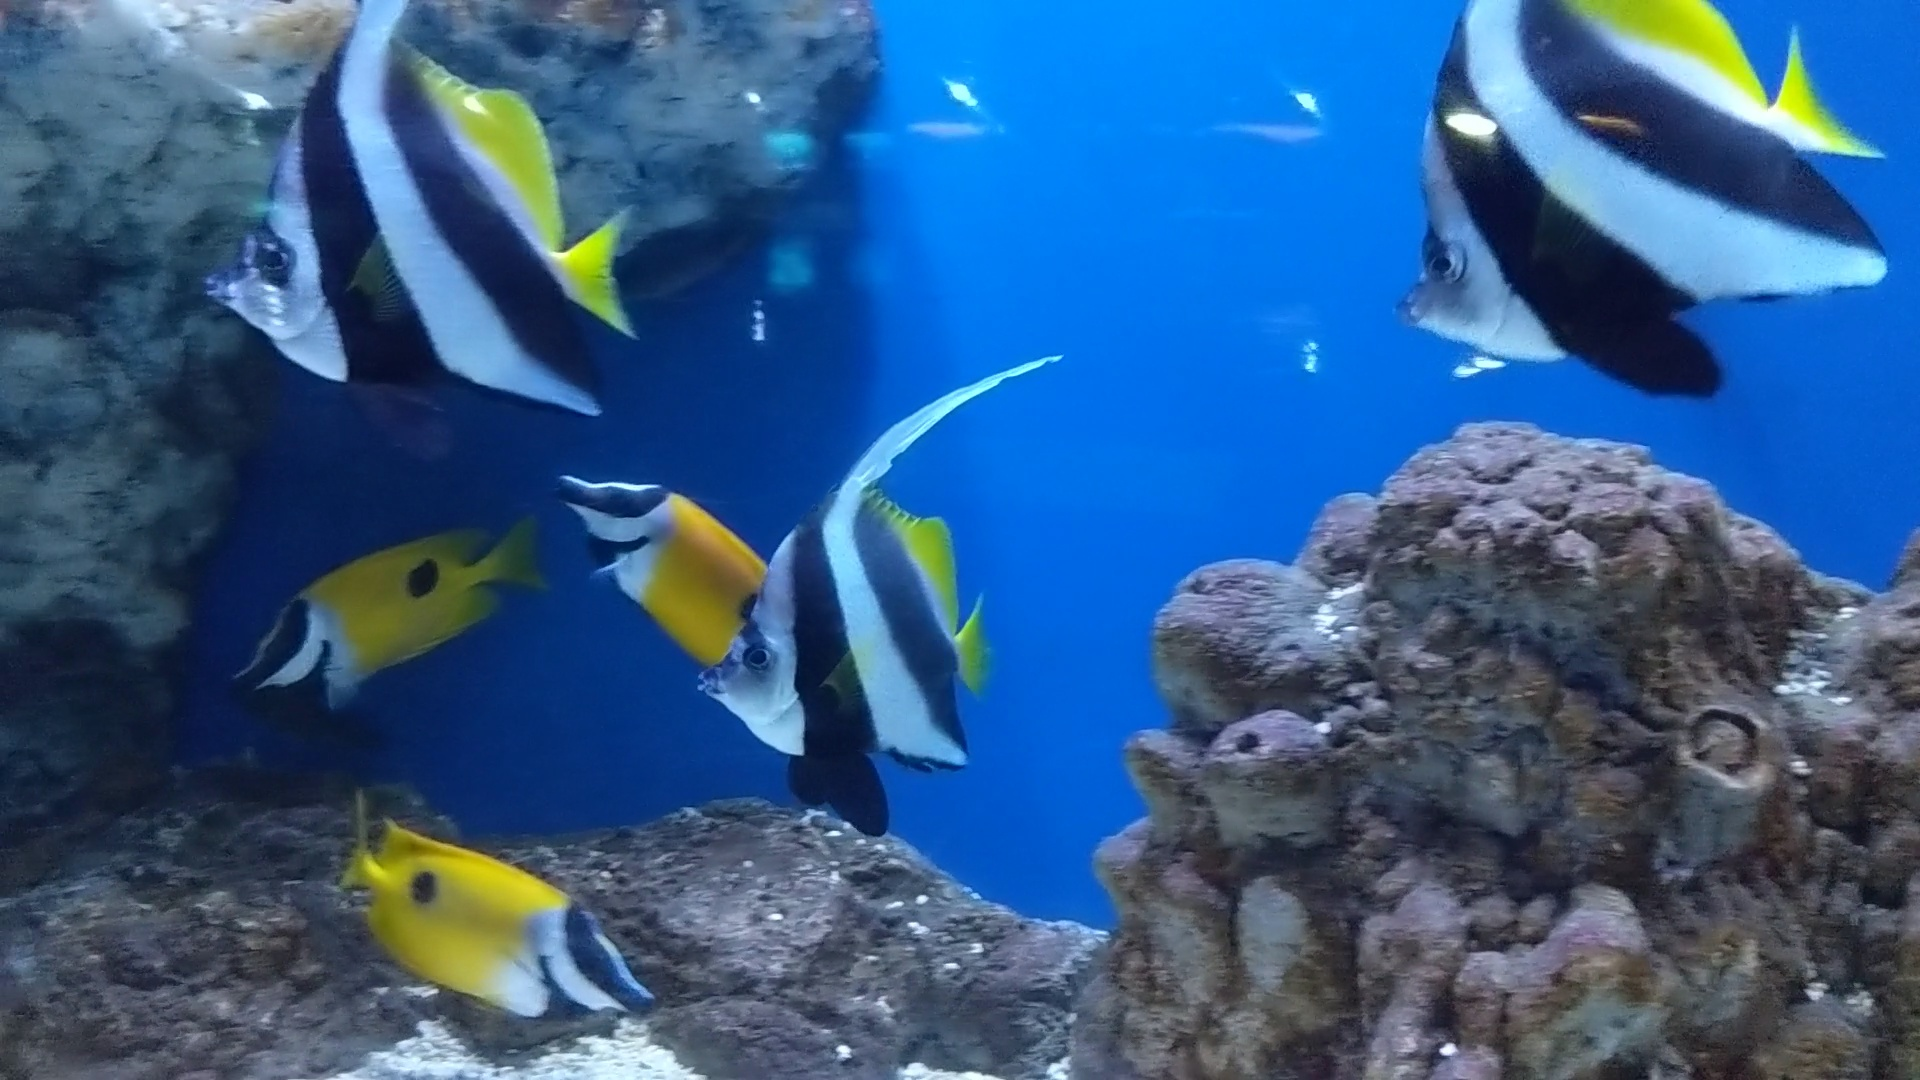moorfish: (1354, 0, 1869, 382), (181, 3, 642, 429), (692, 390, 1009, 824)
rabbitfish: (309, 789, 676, 1048), (193, 518, 537, 719), (545, 479, 785, 708)
